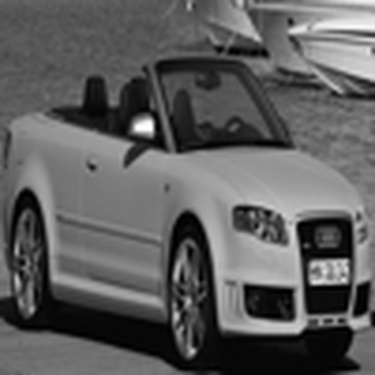car: (1, 41, 367, 347)
